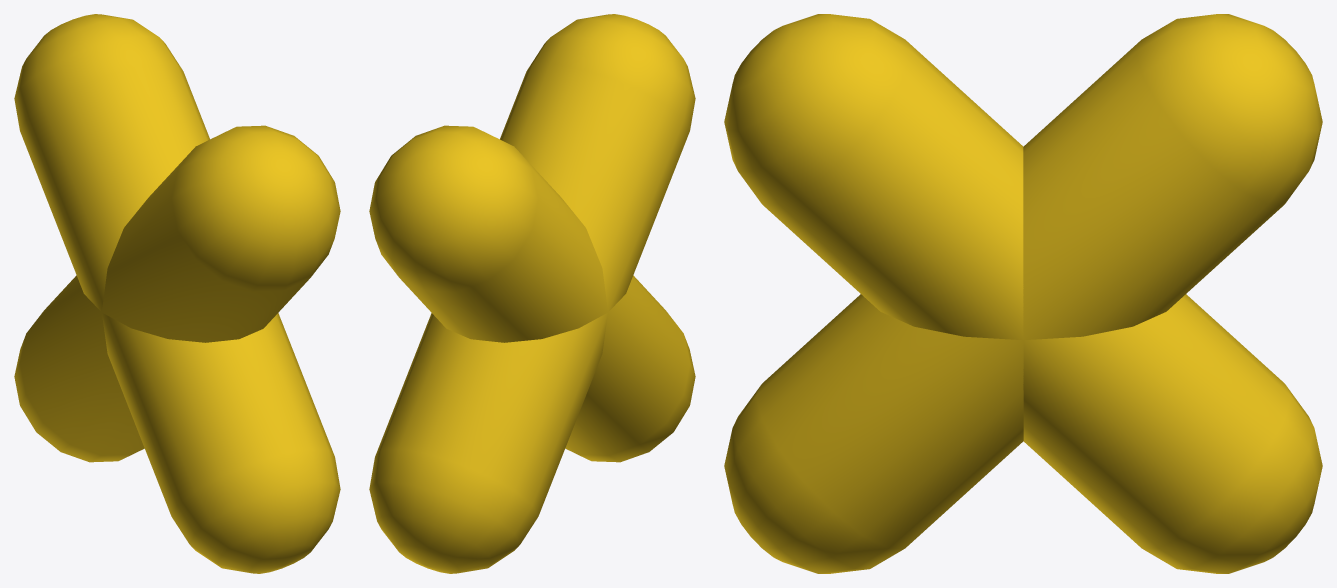
The picture shows the model from 3 angles, left to right: view 1: azimuth 30°, elevation 25°; view 2: azimuth 150°, elevation 25°; view 3: azimuth 270°, elevation 25°; orthographic projection. The views are drawn at different scales.
Parts seen in each view (by area): view 1: Sphere.001; view 2: Sphere.001; view 3: Sphere.001.
Part boxes in pixels (left/top/right/bottom): Sphere.001: left=14, top=14, right=340, bottom=573; Sphere.001: left=369, top=14, right=695, bottom=573; Sphere.001: left=724, top=14, right=1322, bottom=573.
Bounding box in the file's own units: 0.1336 × 0.3652 × 0.3652.
